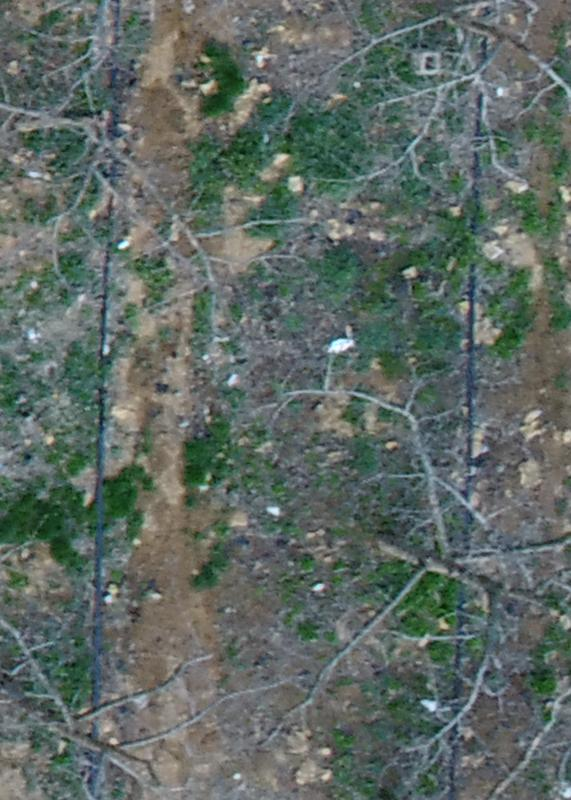apple: (264, 354, 561, 776), (10, 10, 291, 340), (287, 10, 561, 285), (10, 538, 297, 790)
